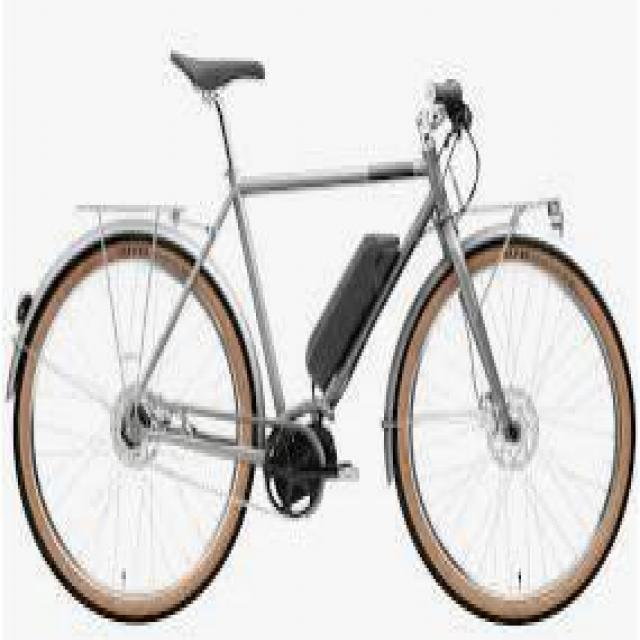bicycle: (10, 41, 635, 627)
